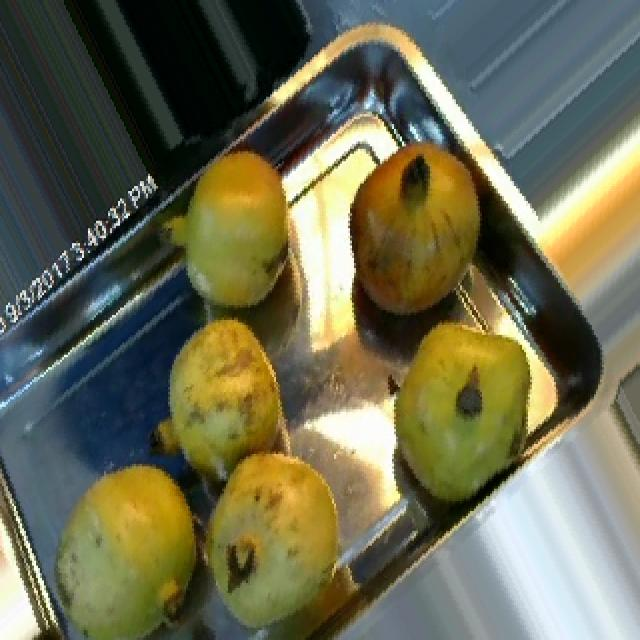fruit: (368, 298, 570, 528), (332, 121, 504, 338), (148, 124, 318, 335), (192, 431, 362, 640), (42, 439, 214, 640), (146, 298, 296, 491)
